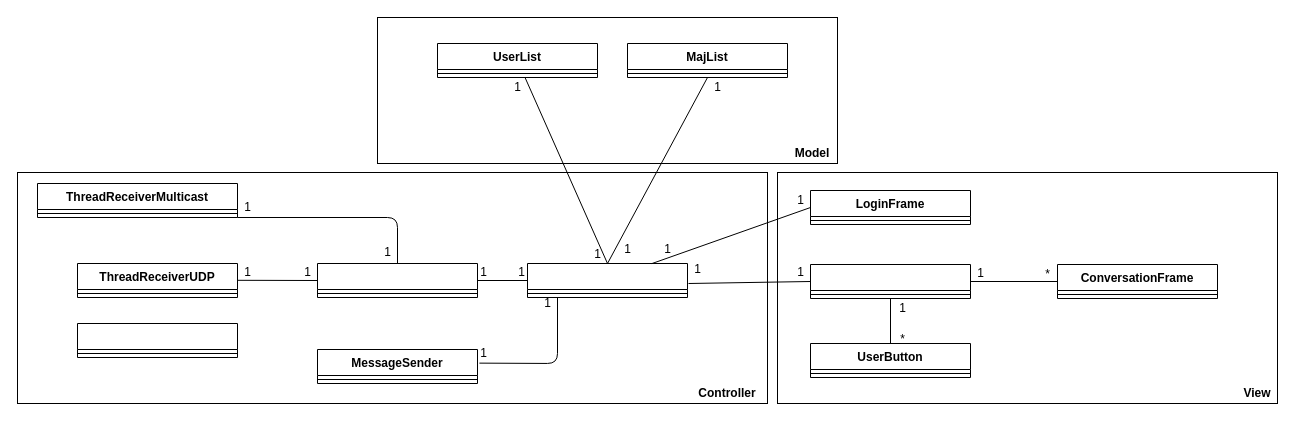
Image size: 1295x421. Some labels were removed from this diagram. The shapes that lost their labels are listed below. From the top down, each one's centre as x and y in pixels, then its label:
the point at 397,280: NetworkController
the point at 607,280: MainController
the point at 890,281: MainFrame
the point at 157,340: ThreadReceiverTCP
